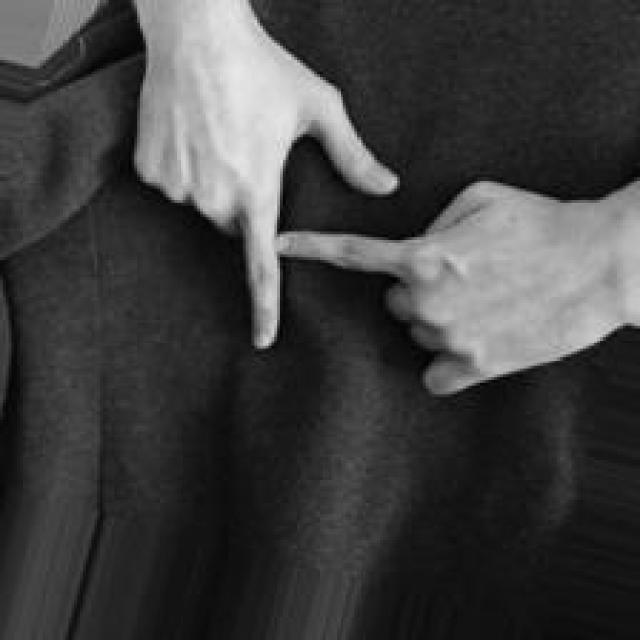F: (125, 0, 640, 394)
